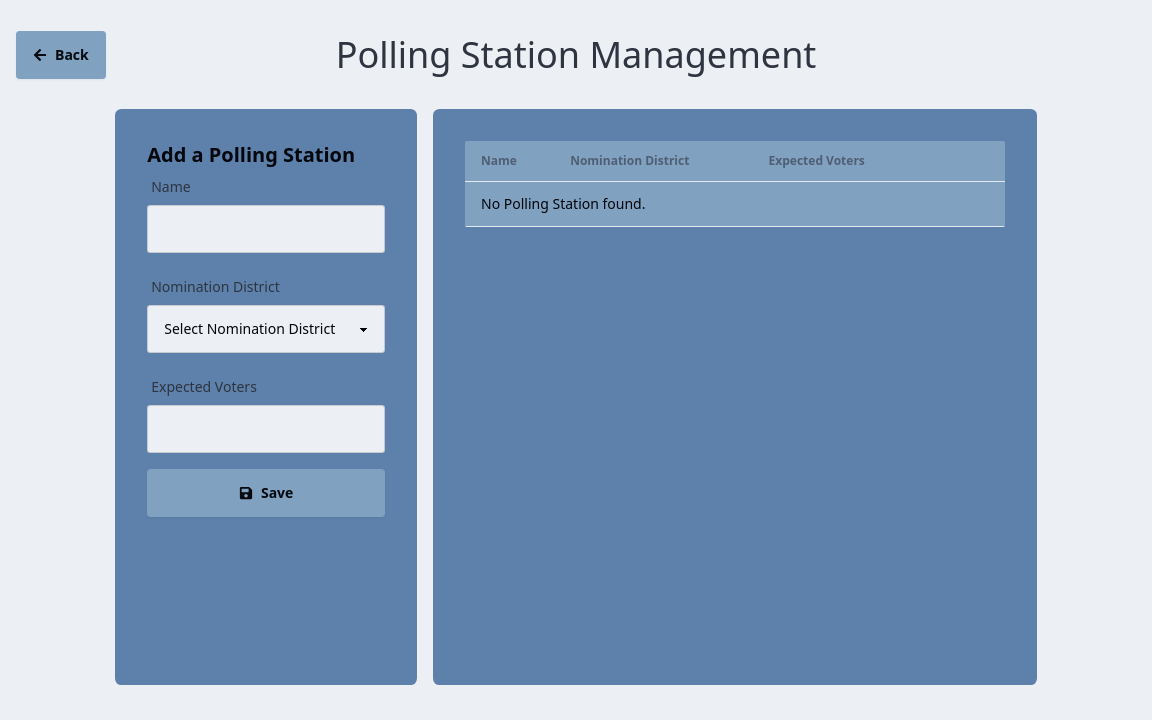
Test: PollingStationScreen › should give toast error with no expected voters
The image size is (1152, 720).
Step 1. Type "Abe-station" into the field with id "name" → (266, 229), box [147,205,385,253]
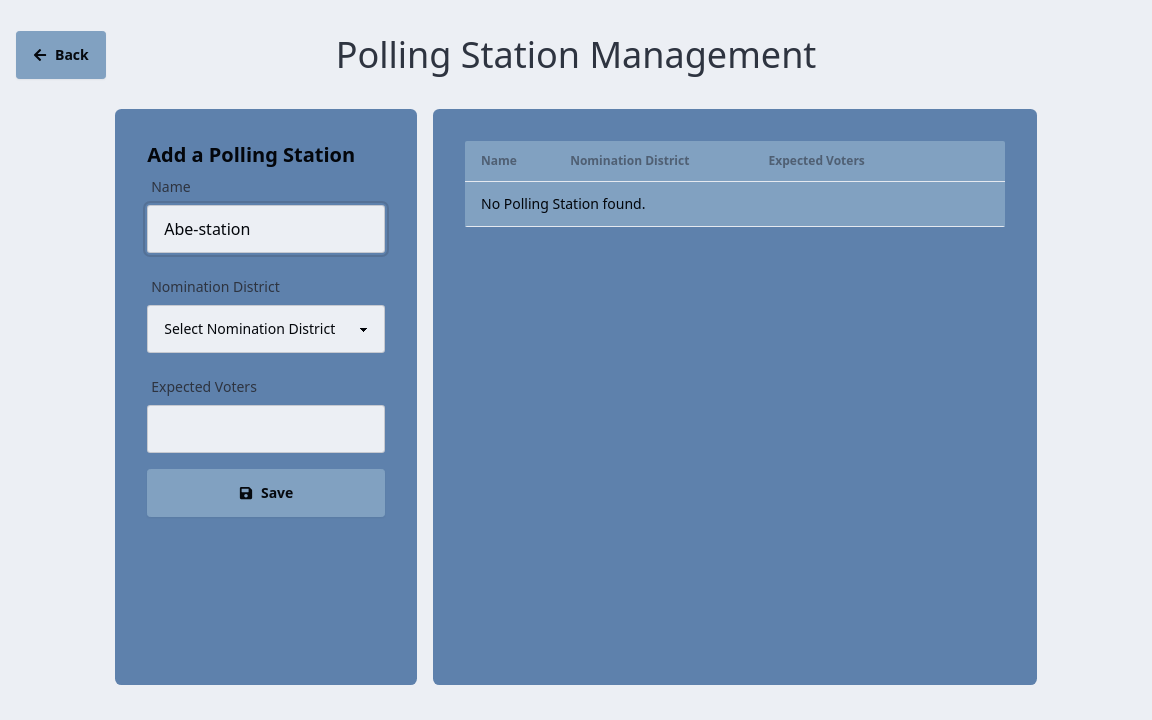
Step 2. Select "Banan-distriktet" in the dropdown with id "nominationDistrict" → (266, 329), box [147,305,385,353]
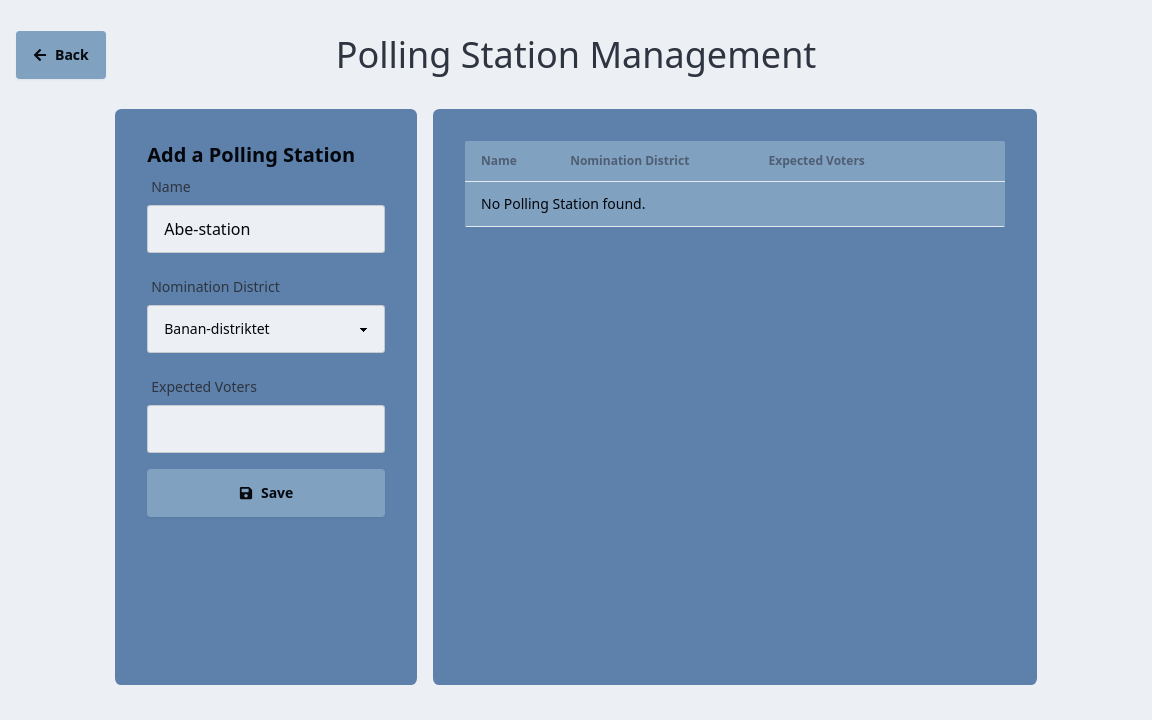
Step 3. Click the submit button → (266, 493), box [147,469,385,517]
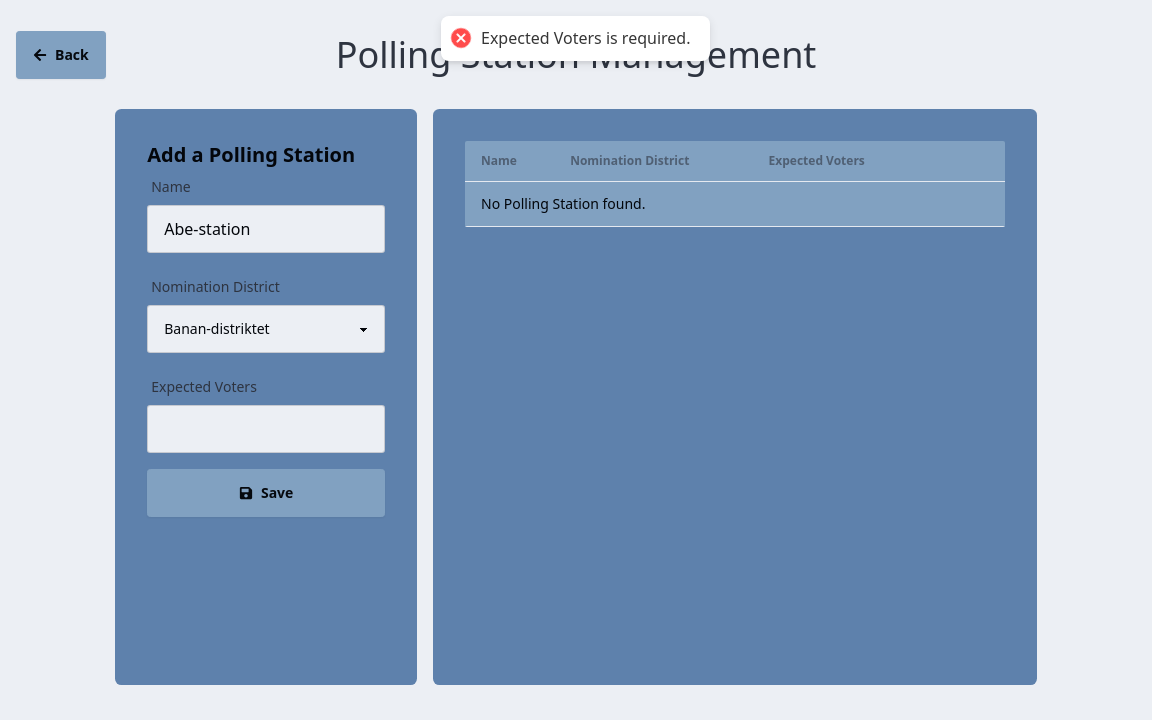
Expected: the text "Expected Voters is required." is shown, [481,28,691,49]
